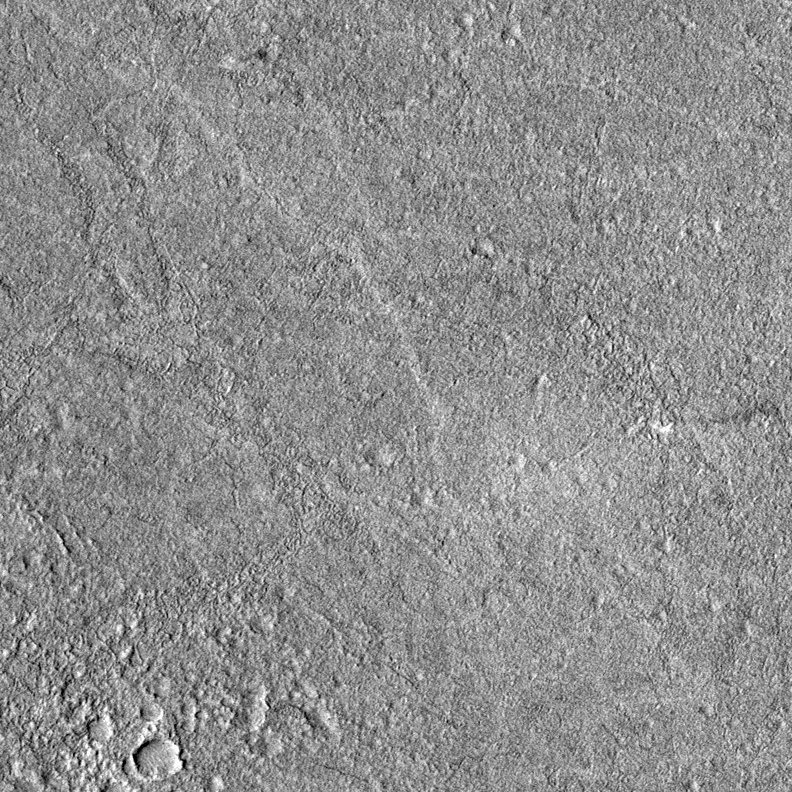dust_devil: (656, 403, 784, 438)
